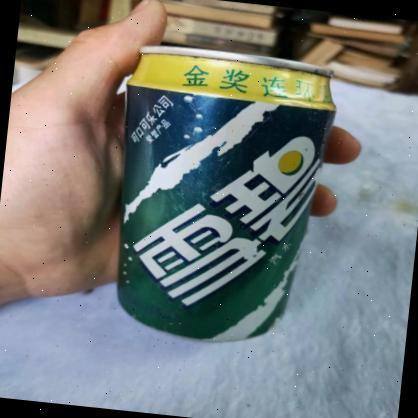can: (99, 37, 344, 352)
